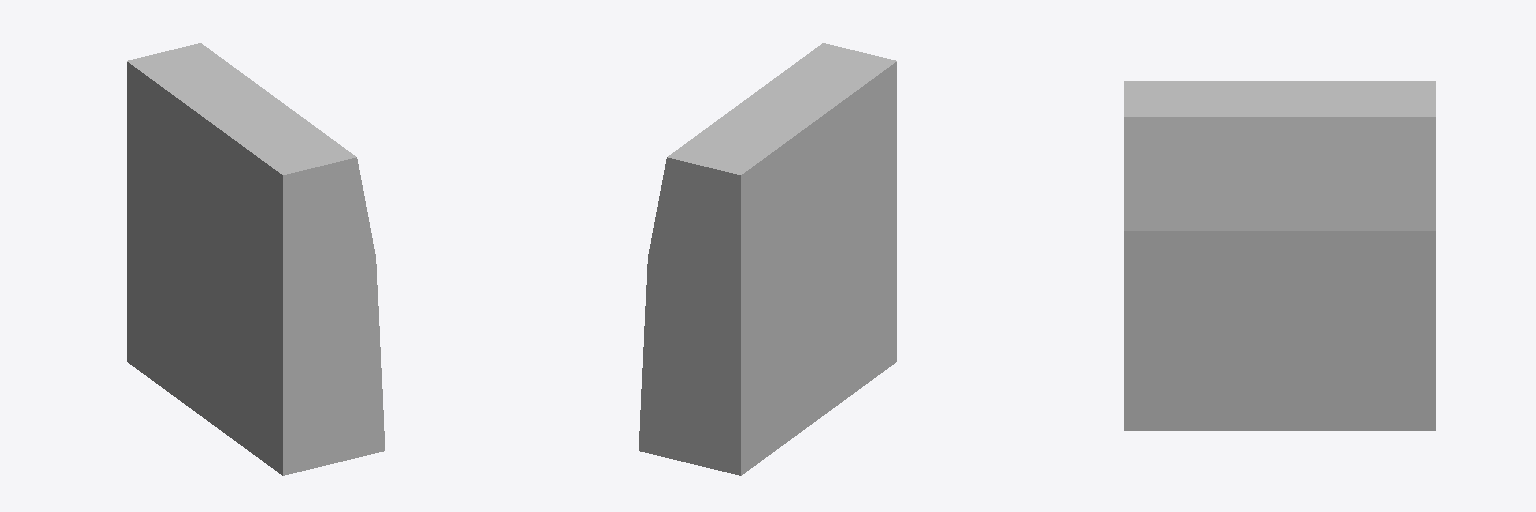
Rendered from hole_collision_10.obj.
3 renders of one model, left to right at view 1: azimuth 30°, elevation 25°; view 2: azimuth 150°, elevation 25°; view 3: azimuth 270°, elevation 25°, orthographic.
Bounding box in the file's own units: 0.0076 × 0.0212 × 0.02.